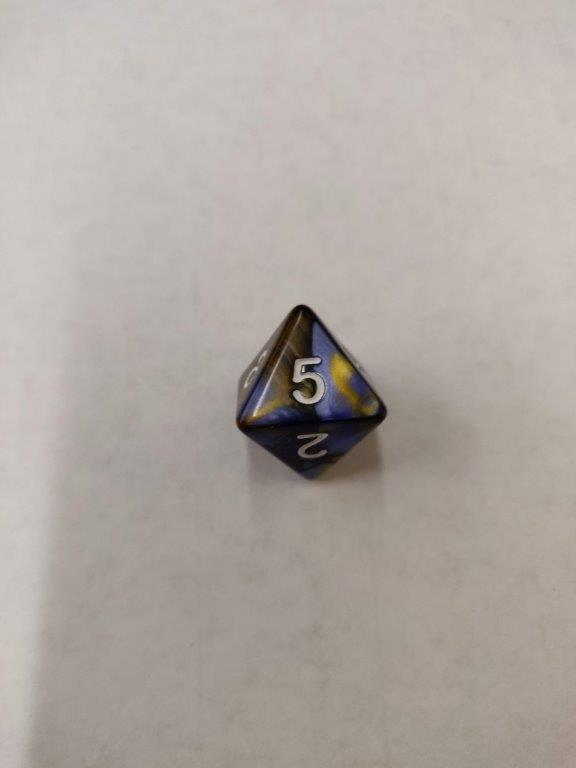d8-5: (236, 302, 388, 483)
